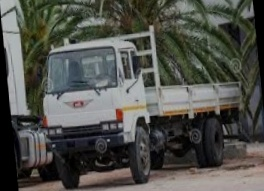truck: (32, 14, 250, 191)
